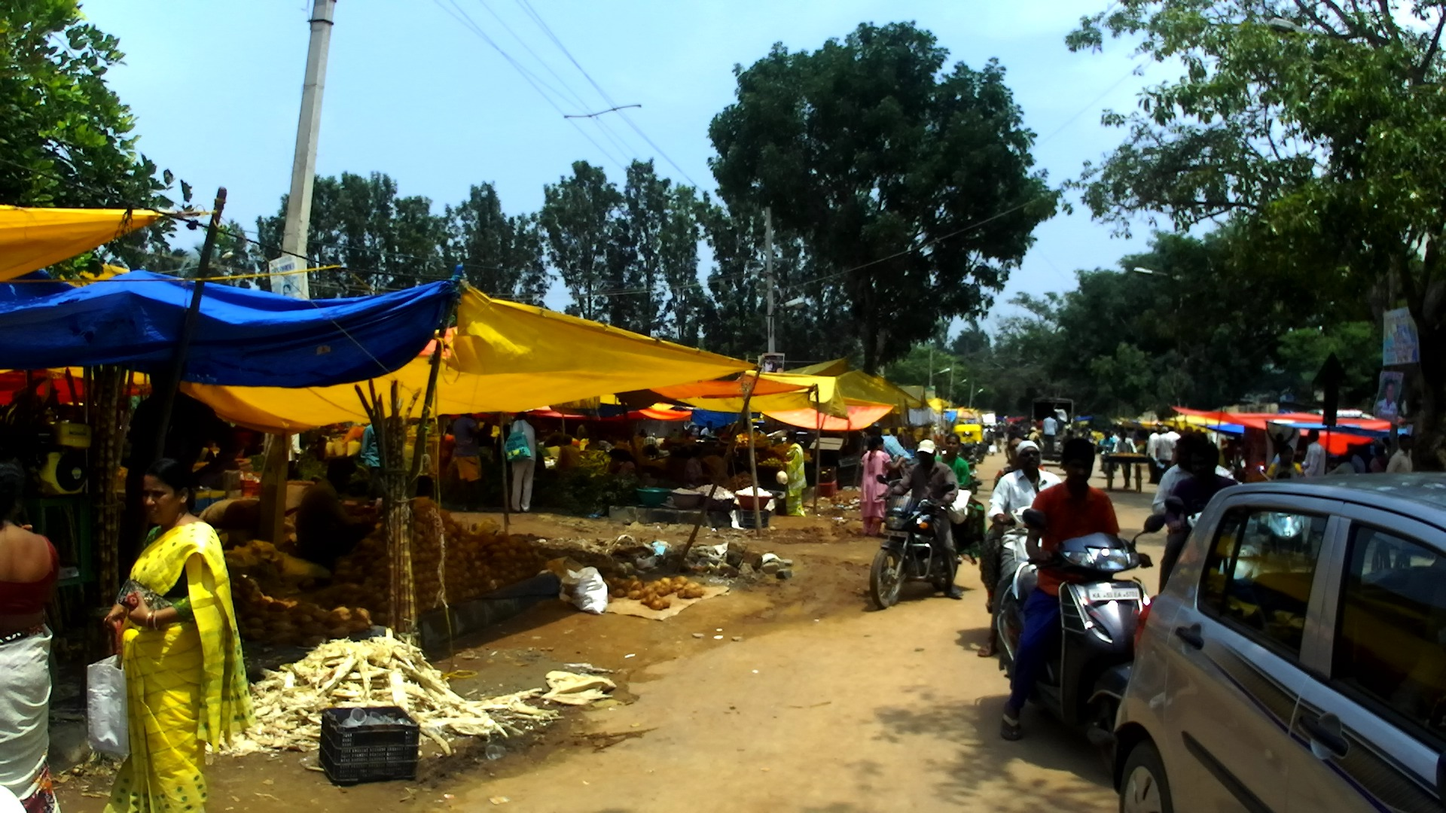autorickshaw: (953, 424, 984, 447)
car: (1108, 471, 1446, 813)
motorcycle: (996, 510, 1167, 771), (868, 474, 964, 609), (993, 504, 1076, 626), (1165, 497, 1227, 583), (1258, 461, 1313, 484), (959, 455, 982, 495), (956, 442, 978, 472), (1100, 446, 1120, 476), (976, 440, 988, 464)
person: (94, 456, 257, 813), (119, 355, 242, 603), (1, 462, 66, 813), (295, 458, 377, 561), (449, 410, 493, 511), (862, 437, 903, 539), (511, 411, 534, 515), (485, 424, 512, 510), (362, 416, 389, 498), (784, 431, 806, 516), (870, 428, 913, 470), (1301, 427, 1326, 486), (1115, 431, 1138, 492), (1265, 426, 1299, 467), (440, 426, 457, 502), (1387, 434, 1415, 480), (681, 449, 712, 490), (1222, 435, 1247, 483), (547, 437, 579, 471), (417, 451, 437, 504), (1157, 425, 1174, 487), (287, 428, 304, 480), (1148, 430, 1164, 483), (1328, 454, 1353, 485), (1371, 442, 1390, 480), (862, 422, 883, 456), (601, 448, 621, 477), (1348, 449, 1366, 478), (621, 448, 637, 478), (1028, 425, 1042, 458), (313, 440, 329, 462), (545, 434, 572, 447), (645, 433, 659, 458), (984, 425, 995, 455), (1000, 416, 1011, 446), (1167, 428, 1181, 450), (576, 422, 587, 443), (996, 427, 1005, 452), (701, 420, 714, 437), (890, 429, 899, 441), (639, 429, 648, 439), (1112, 425, 1119, 433)
rider: (999, 437, 1121, 744), (977, 440, 1061, 657), (883, 440, 963, 602), (1158, 443, 1237, 600), (979, 431, 1035, 614), (1152, 436, 1237, 520), (942, 432, 987, 566), (1268, 446, 1303, 483), (1099, 432, 1118, 472), (1060, 429, 1076, 467), (1043, 415, 1057, 453), (1054, 406, 1069, 431), (1277, 472, 1294, 483)
truck: (1032, 397, 1074, 463)
vehicle fallback: (1106, 454, 1150, 493)
